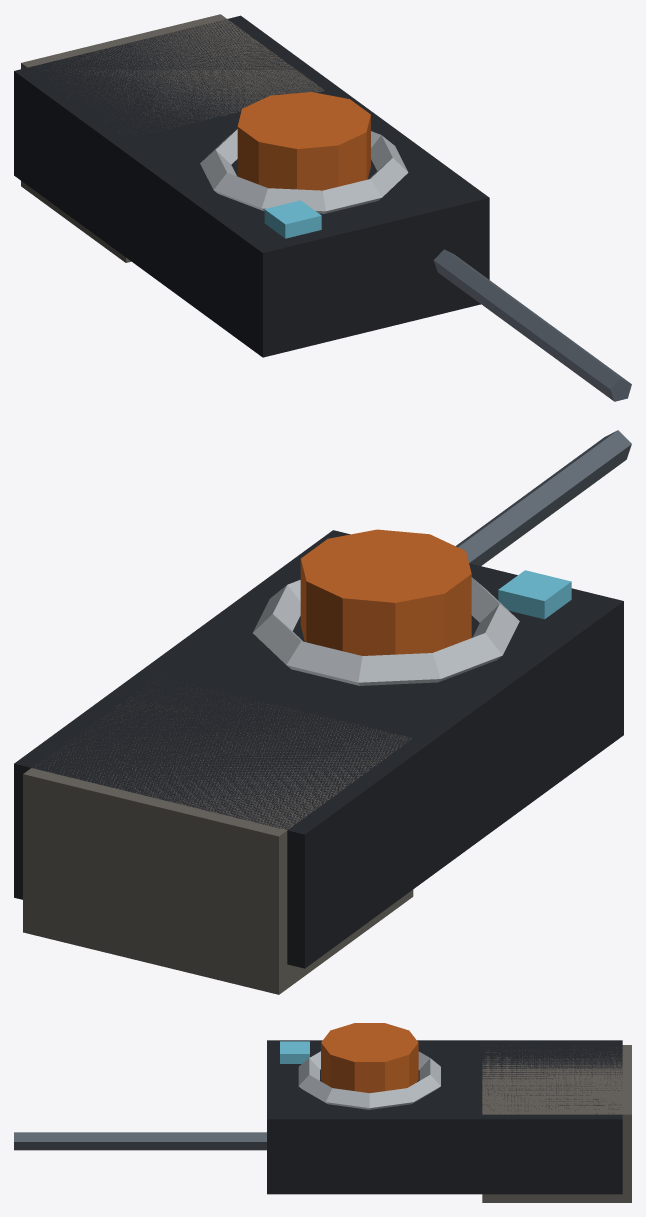
File: remote-detonator.glb
The picture shows the model from 3 angles, top to bottom: view 1: azimuth 30°, elevation 25°; view 2: azimuth 150°, elevation 25°; view 3: azimuth 270°, elevation 25°; orthographic projection. The views are drawn at different scales.
Parts seen in each view (by area): view 1: m; view 2: m; view 3: m.
Part boxes in pixels (bbox=[...]): m: bbox=[14, 14, 631, 401]; m: bbox=[14, 430, 631, 994]; m: bbox=[14, 1023, 631, 1202].
Size of the model in its own units: 0.0394 by 0.0292 by 0.13.
